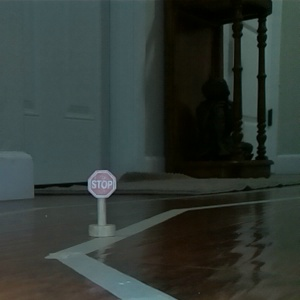stop sign: (84, 167, 119, 240)
